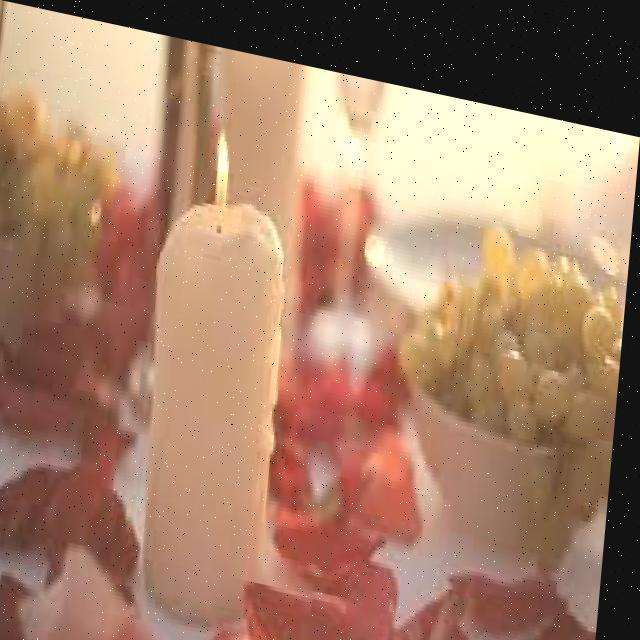Fire: (208, 114, 242, 218)
